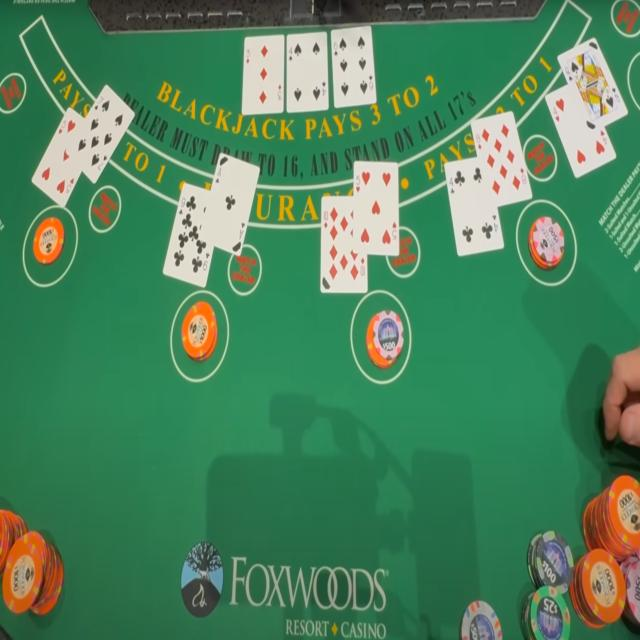10: (323, 210, 329, 222)
3: (245, 47, 251, 58)
4: (448, 175, 454, 187), (552, 104, 558, 116), (288, 45, 294, 55)
5: (60, 118, 66, 130), (355, 174, 361, 186)
6: (332, 39, 338, 51)
7: (97, 95, 104, 104)
8: (475, 132, 481, 144)
9: (180, 196, 186, 208)
A: (217, 166, 222, 178)
Q: (564, 63, 570, 76)
